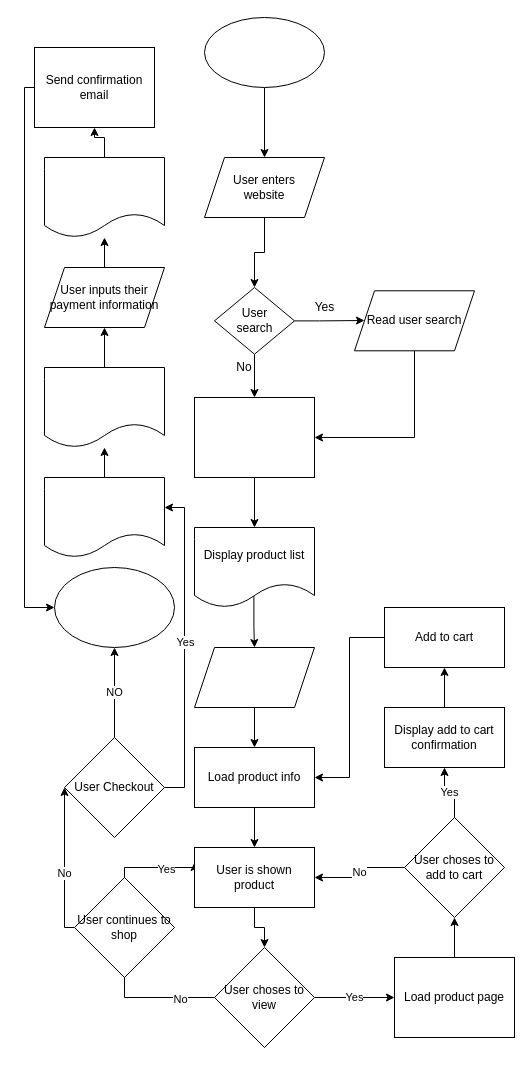
Some shapes in this 532 by 1065 pixel diagram are drawn without their labels. Here are the shapes that lost their labels. From the top down, the centre of each, then its label:
point 264,52: Start
point 104,197: Display confirmation screen
point 104,407: Display view payment screen
point 254,437: Load product information
point 104,517: Display view cart screen
point 114,607: END
point 254,677: User looks around for product
